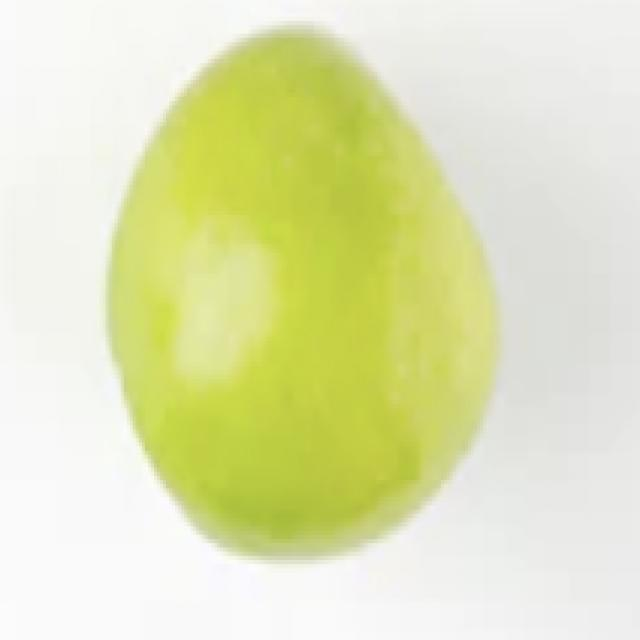Fresh Apple: (124, 25, 478, 560)
